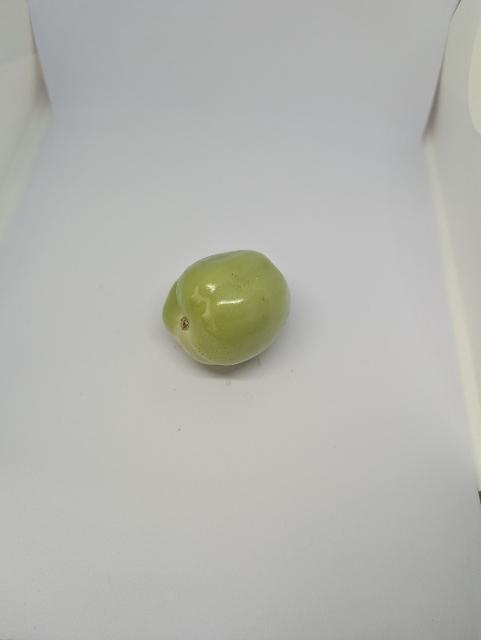green: (155, 242, 300, 373)
